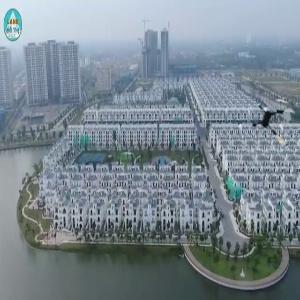drone: (250, 100, 300, 150)
